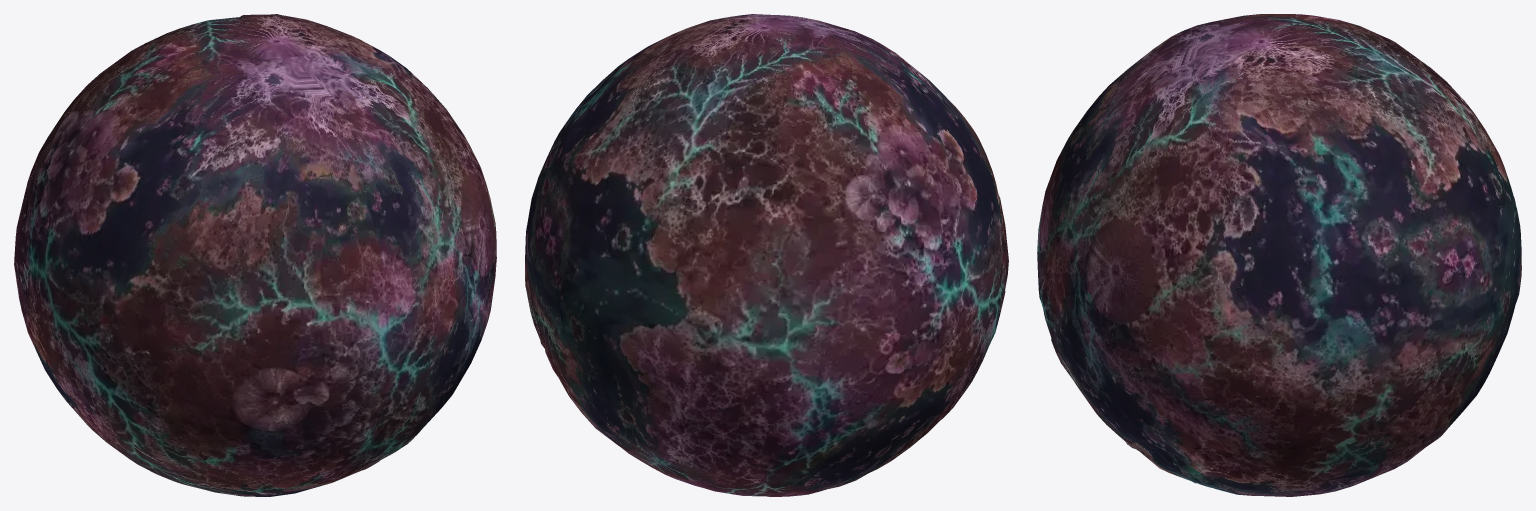
The model's file is planet_14.glb.
The picture shows the model from 3 angles, left to right: view 1: azimuth 30°, elevation 25°; view 2: azimuth 150°, elevation 25°; view 3: azimuth 270°, elevation 25°; orthographic projection.
Parts seen in each view (by area): view 1: Mesh_0.001; view 2: Mesh_0.001; view 3: Mesh_0.001.
Boxes of the visible parts, bbox=[...] form: Mesh_0.001: bbox=[14, 14, 496, 496]; Mesh_0.001: bbox=[525, 14, 1008, 496]; Mesh_0.001: bbox=[1037, 14, 1521, 496].
Bounding box in the file's own units: 1.9 × 1.9 × 1.9.
1 material, 1 textured.
